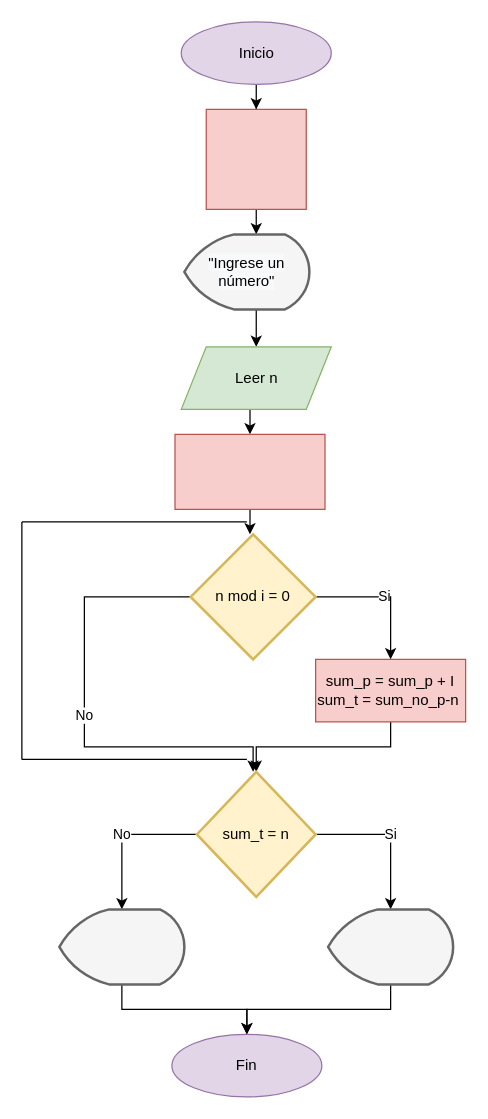
Image size: 488x1119. Some labels were removed from this diagram. Here are the shapes that lost their labels. From the top down, the centre of each, then its label:
(255,158): sum_p = 0 sum_no_p = 0
(249,471): Para i = 1; n; 1
(121,946): n; " NO es un nro perfecto"
(390,946): n; " es un nro perfecto"
